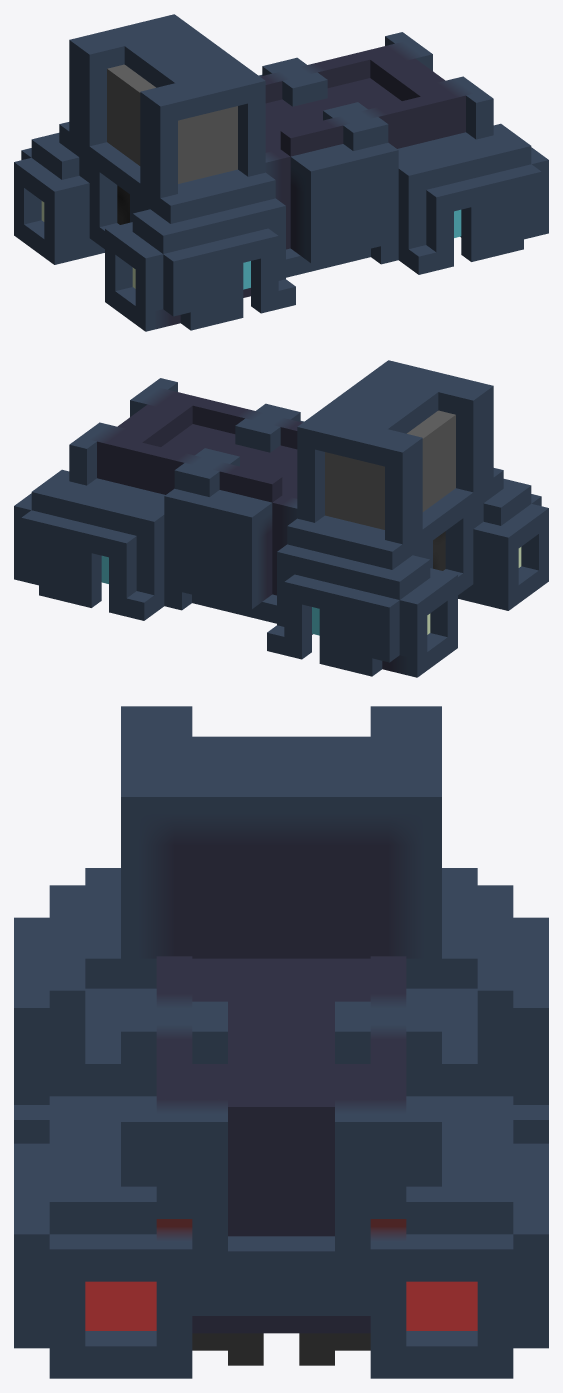
File: vehicle_04.fbx
The picture shows the model from 3 angles, top to bottom: view 1: azimuth 30°, elevation 25°; view 2: azimuth 150°, elevation 25°; view 3: azimuth 270°, elevation 25°; orthographic projection. The views are drawn at different scales.
Parts seen in each view (by area): view 1: _3; view 2: _3; view 3: _3.
Part boxes in pixels (x1=…): _3: x1=14, y1=14, x2=548, y2=331; _3: x1=14, y1=360, x2=548, y2=677; _3: x1=14, y1=706, x2=548, y2=1378.
Bounding box in the file's own units: 23 × 12 × 15.
